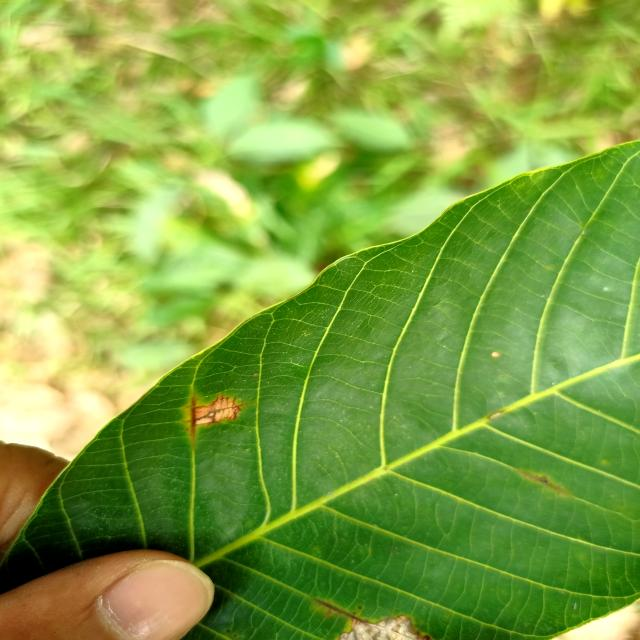Corynespora: (184, 392, 250, 443), (316, 598, 370, 624)
Leaf-Blight: (338, 615, 431, 640)
